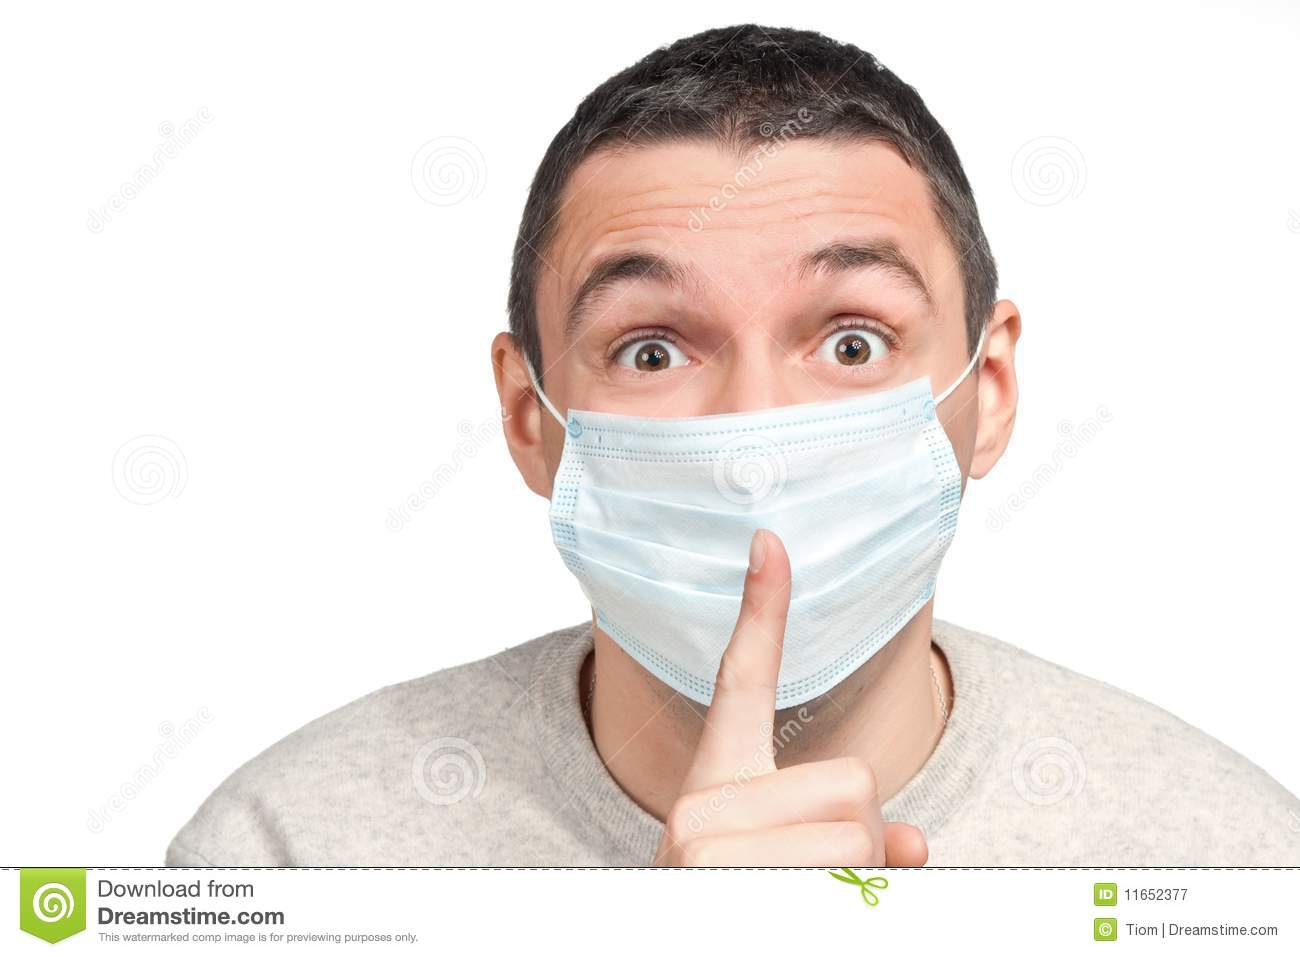mask: (553, 396, 959, 706)
